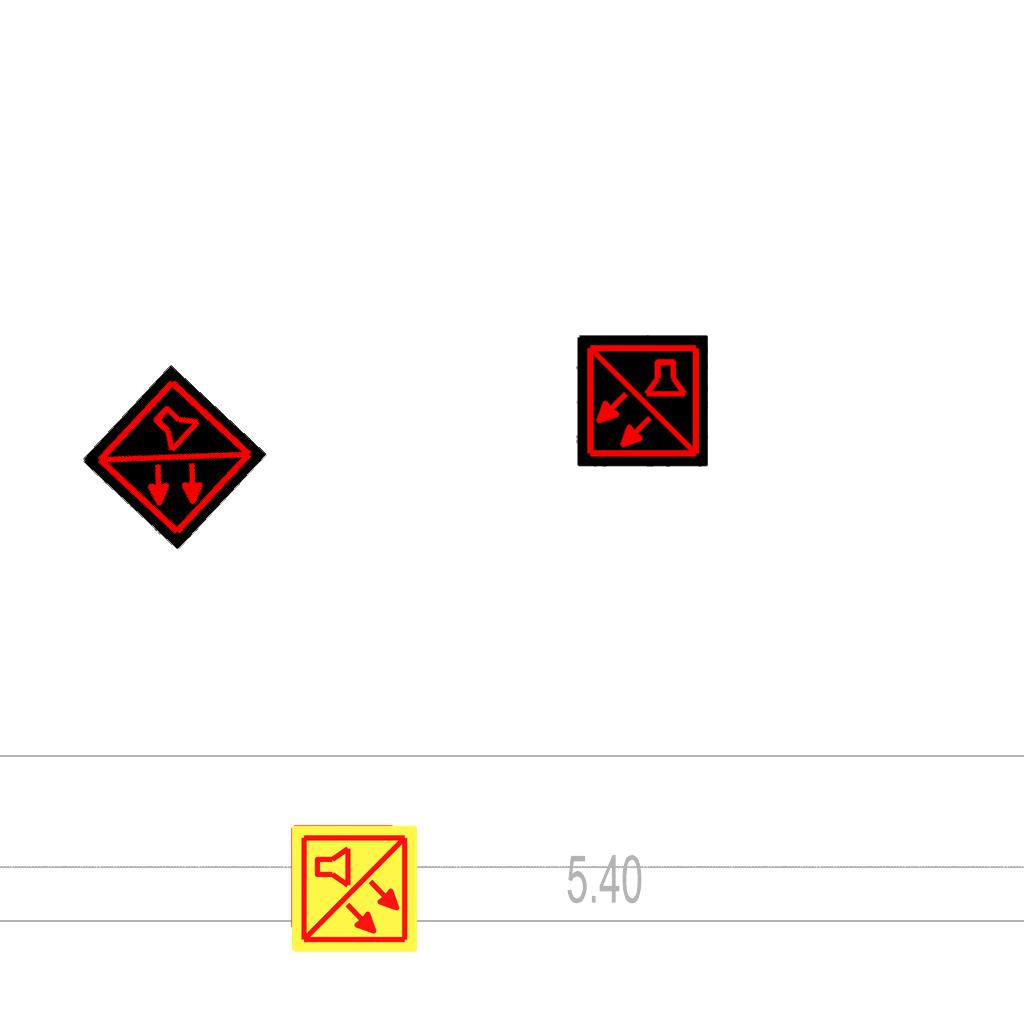OKW_Multisensormelder_(Kombination_optischer_Rauch-Kahlenmonoxid_Waerme-Melder): (80, 364, 268, 552), (288, 823, 420, 955), (576, 335, 708, 467)
